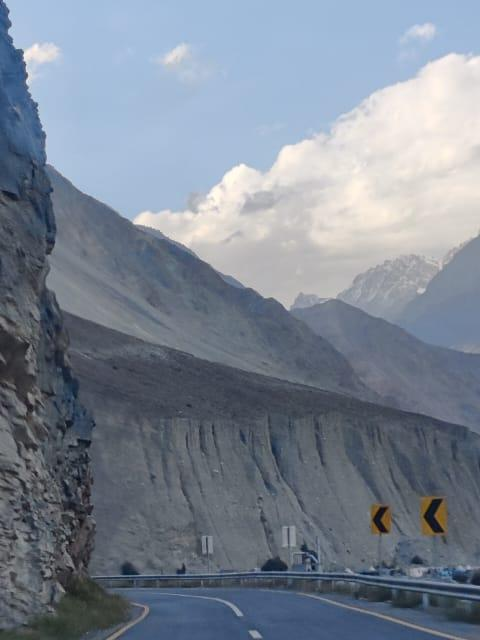left_turn: (77, 551, 296, 625), (419, 494, 449, 536), (373, 505, 390, 532)
